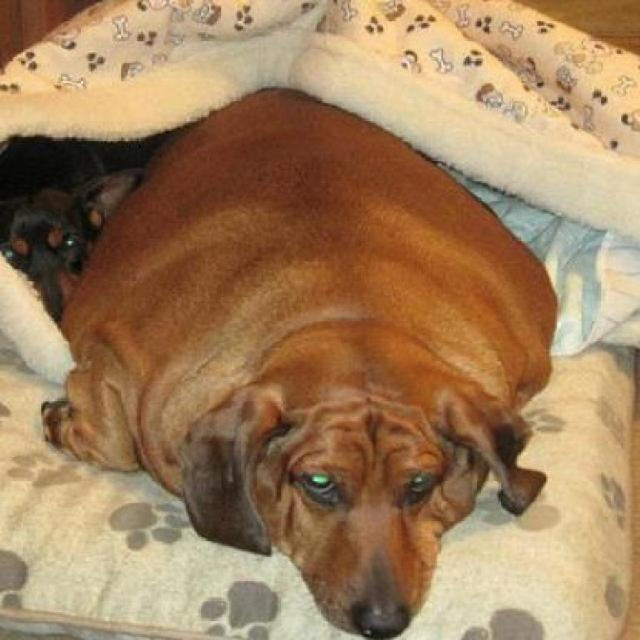Dog: (42, 86, 563, 637)
